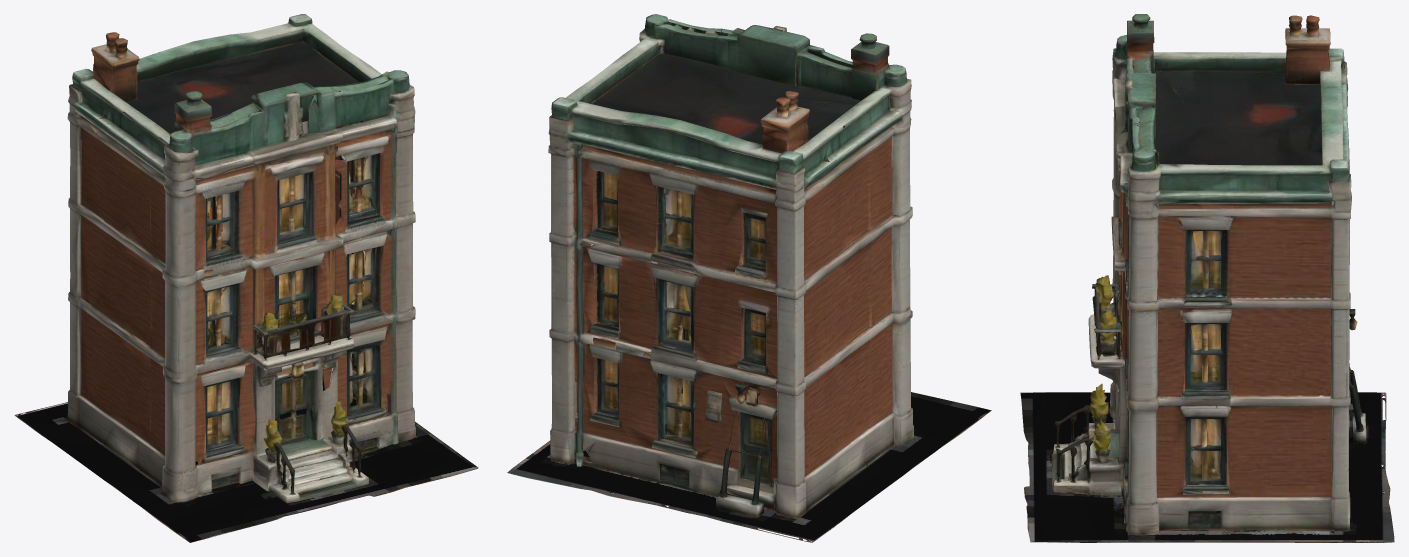
The model's file is candidate.glb.
3 views of the same model, side by side, from view 1: azimuth 30°, elevation 25°; view 2: azimuth 150°, elevation 25°; view 3: azimuth 270°, elevation 25° (orthographic). The views are drawn at different scales.
Visible parts, largest first — view 1: expansion__villa_3__native_mobile; view 2: expansion__villa_3__native_mobile; view 3: expansion__villa_3__native_mobile.
Part boxes in pixels (x1,y1,x2,y2): expansion__villa_3__native_mobile: (14,14,478,542); expansion__villa_3__native_mobile: (507,14,991,542); expansion__villa_3__native_mobile: (1020,14,1394,542).
Size of the model in its own units: 0.7787 by 1 by 0.823.
1 material, 1 textured.
